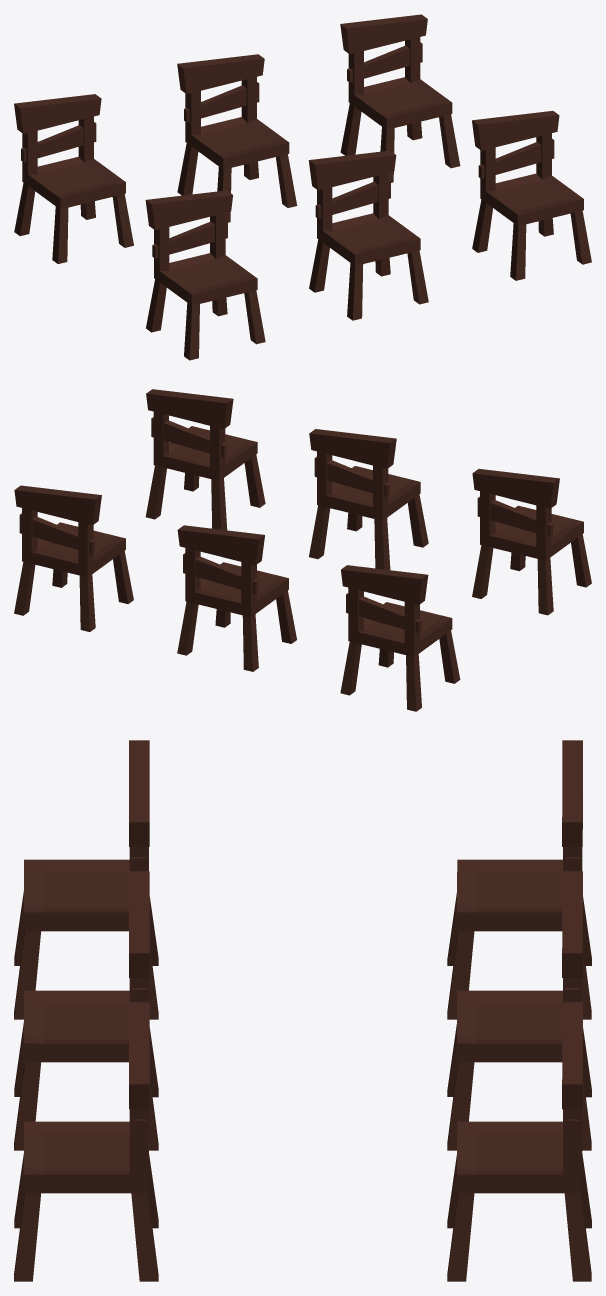
File: chairs.glb
The picture shows the model from 3 angles, top to bottom: view 1: azimuth 30°, elevation 25°; view 2: azimuth 150°, elevation 25°; view 3: azimuth 270°, elevation 25°; orthographic projection. The views are drawn at different scales.
Parts seen in each view (by area): view 1: tsjer, tsjer_Chair_0.002, tsjer_Chair_0.003, tsjer_Chair_0.001, tsjer_Chair_0.005, tsjer_Chair_0.004; view 2: tsjer_Chair_0.002, tsjer_Chair_0.003, tsjer_Chair_0.005, tsjer_Chair_0.004, tsjer, tsjer_Chair_0.001; view 3: tsjer_Chair_0.005, tsjer, tsjer_Chair_0.004, tsjer_Chair_0.003, tsjer_Chair_0.001, tsjer_Chair_0.002.
Boxes of the visible parts, x1,y1,x2,y2 form: tsjer: (472, 111, 591, 280); tsjer_Chair_0.002: (145, 190, 265, 360); tsjer_Chair_0.003: (14, 94, 133, 263); tsjer_Chair_0.001: (308, 150, 428, 320); tsjer_Chair_0.005: (340, 14, 460, 182); tsjer_Chair_0.004: (177, 54, 297, 222); tsjer_Chair_0.002: (472, 469, 591, 615); tsjer_Chair_0.003: (340, 565, 460, 711); tsjer_Chair_0.005: (14, 485, 133, 631); tsjer_Chair_0.004: (177, 525, 296, 671); tsjer: (145, 389, 265, 530); tsjer_Chair_0.001: (309, 429, 428, 569); tsjer_Chair_0.005: (447, 1002, 591, 1281); tsjer: (14, 1002, 158, 1281); tsjer_Chair_0.004: (447, 871, 591, 1150); tsjer_Chair_0.003: (447, 740, 591, 1019); tsjer_Chair_0.001: (14, 871, 158, 1150); tsjer_Chair_0.002: (14, 740, 158, 1019).
Bounding box in the file's own units: 3.75 × 1.15 × 2.8.
